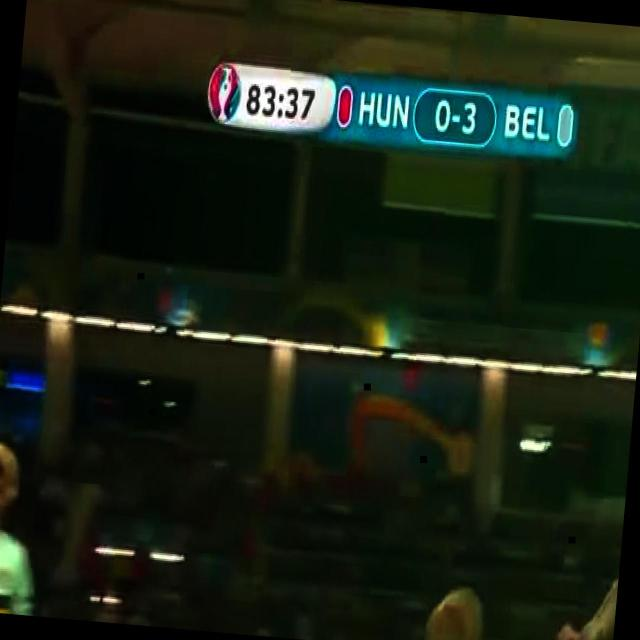player-white: (330, 566, 618, 640), (559, 369, 637, 640), (0, 438, 60, 616), (565, 620, 615, 640)
